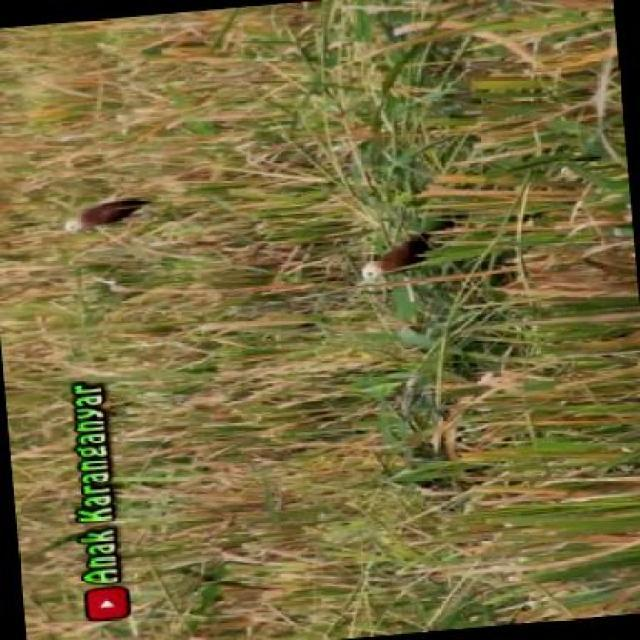Bird: (346, 224, 441, 291), (56, 183, 163, 238)
